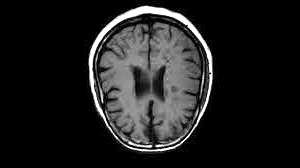Normal_Brain: (67, 1, 246, 167)
